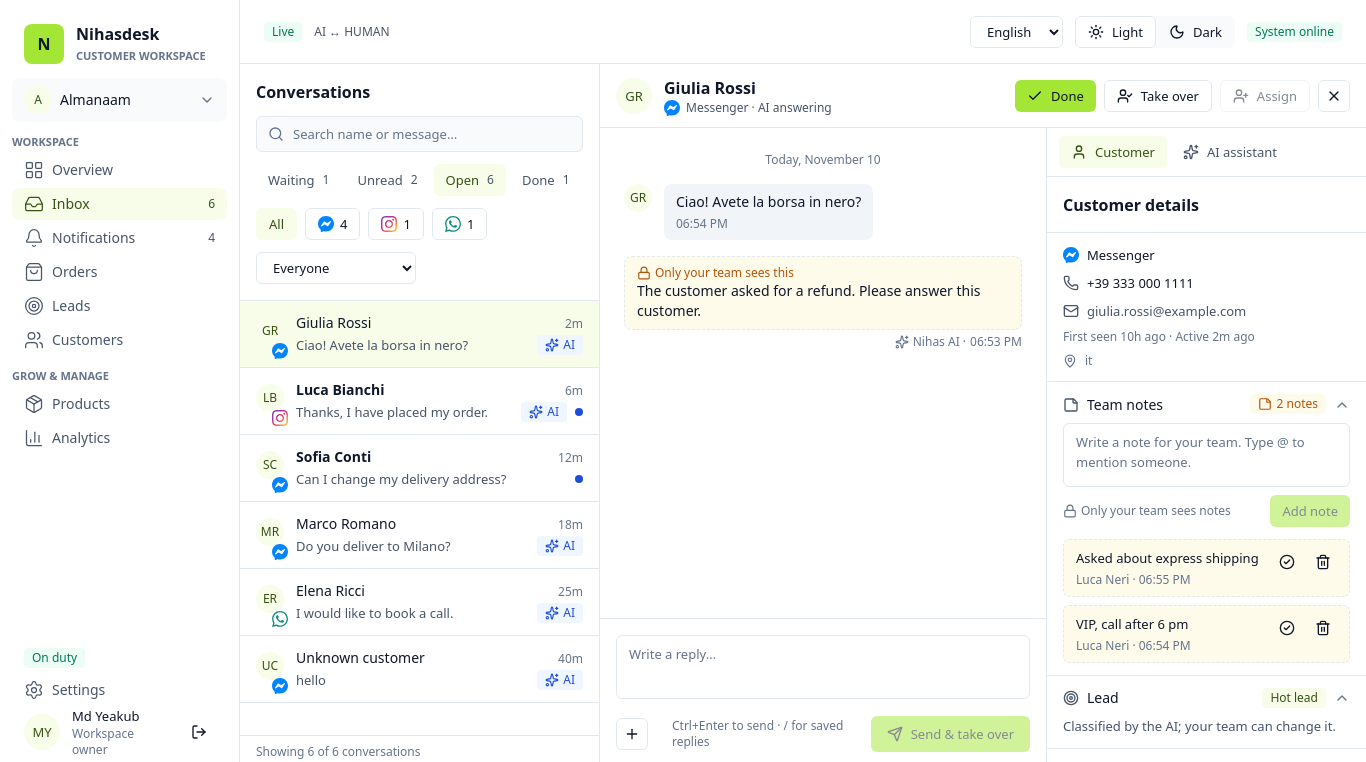
Scenario: Team notes › deletes a note after confirming, and Cancel keeps it
Step 1. Click the button named "Delete note" in the row of "VIP, call after 6 pm" → (1323, 628), box [1309, 614, 1337, 642]
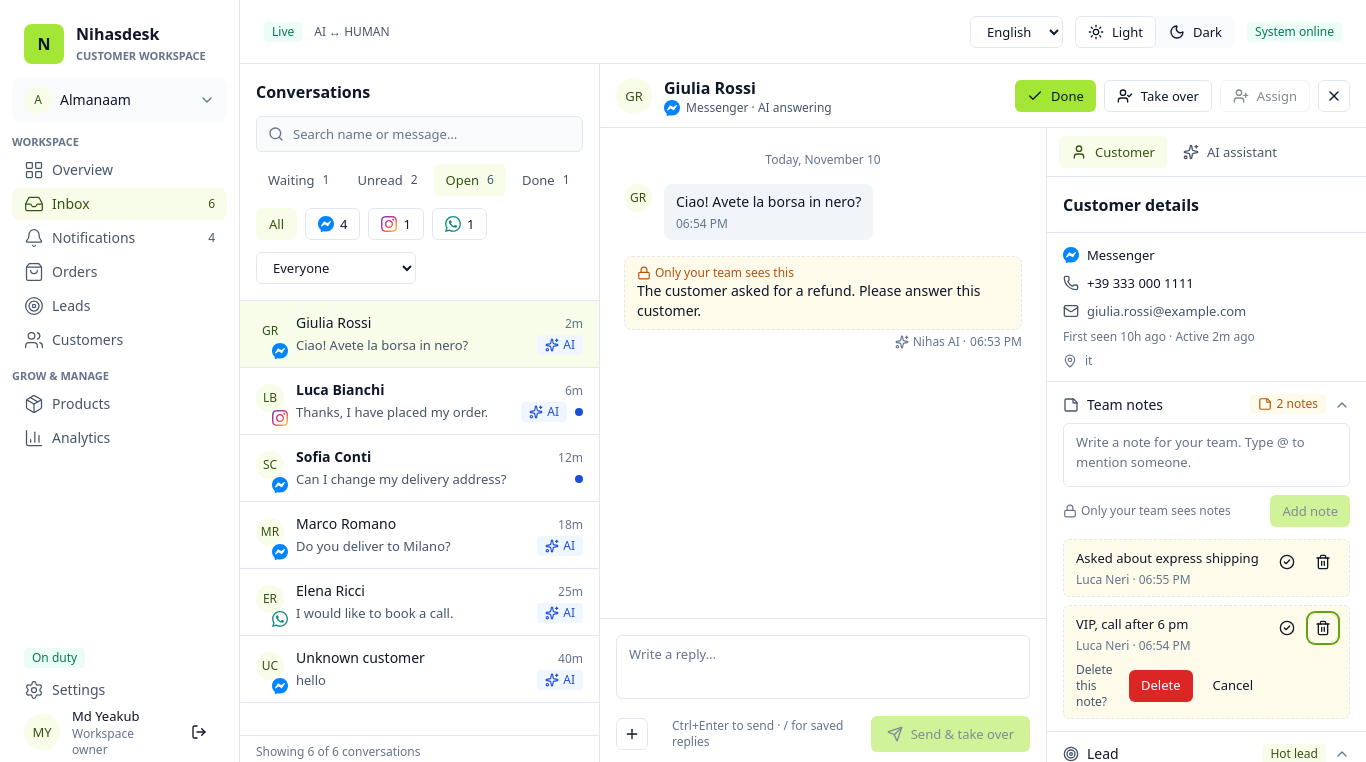
Result: the text "Delete this note?" is shown at [1076, 661, 1112, 710]
Step 2. Click the button "Cancel" → (1233, 686), box [1200, 670, 1265, 702]
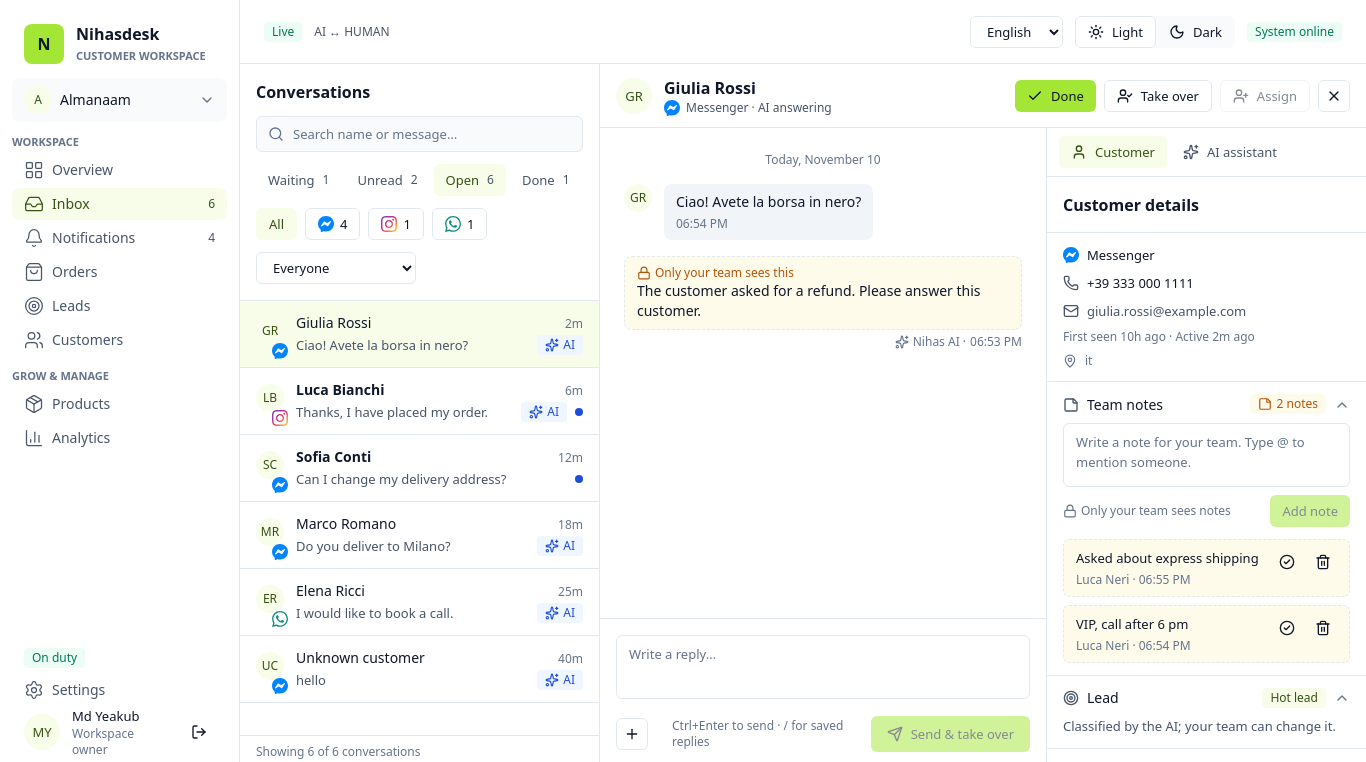
Result: the text "Delete this note?" is gone
Step 3. Click the button named "Delete note" in the row of "VIP, call after 6 pm" → (1323, 628), box [1309, 614, 1337, 642]
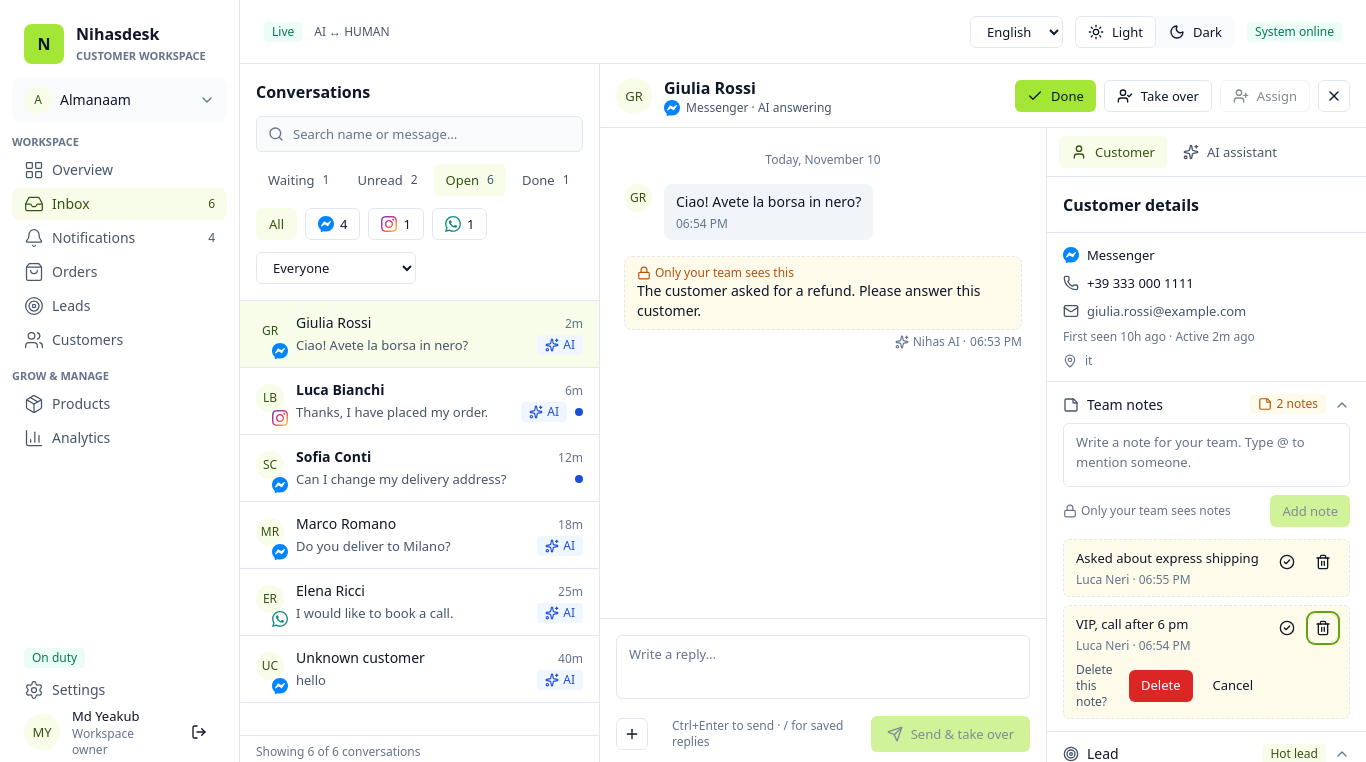
Step 4. Click the button "Delete" → (1161, 686), box [1129, 670, 1192, 702]
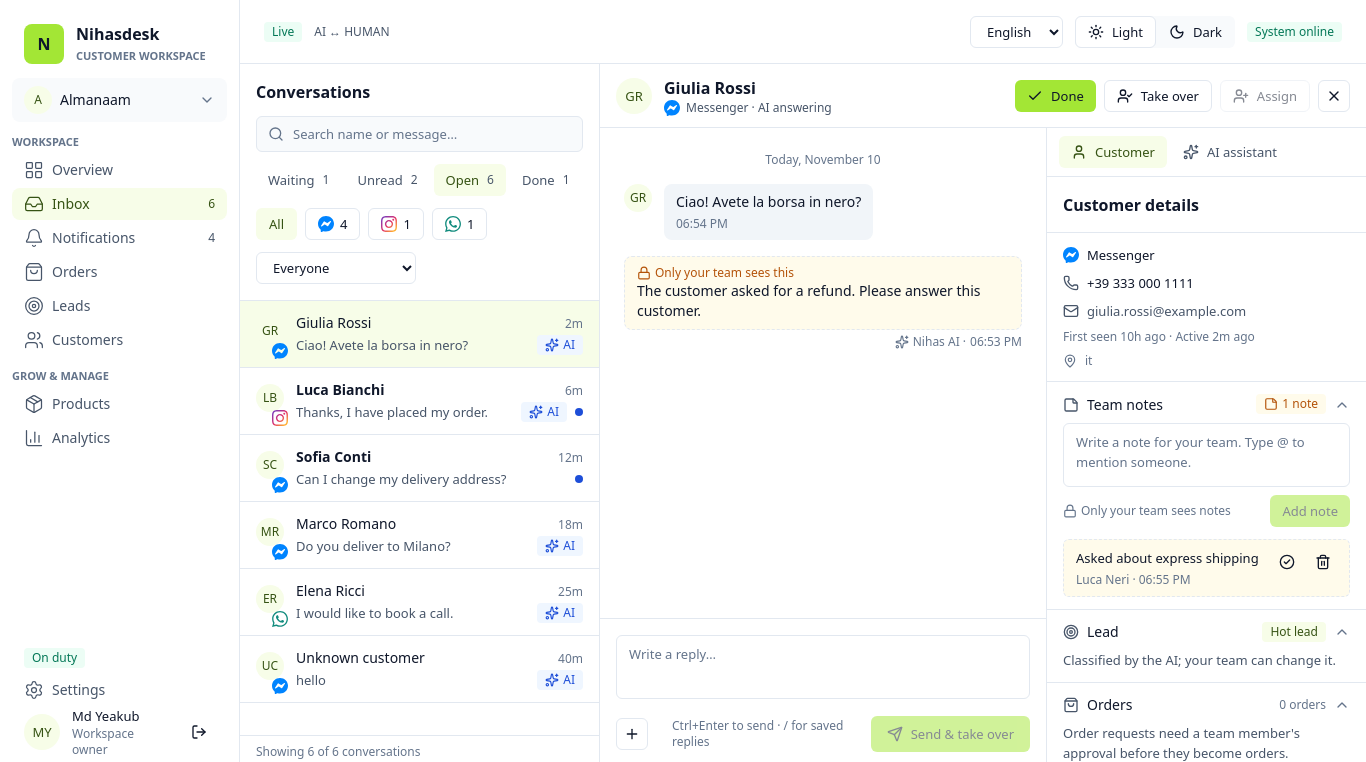
Result: the text "1 note" is shown at [1256, 394, 1326, 414]
